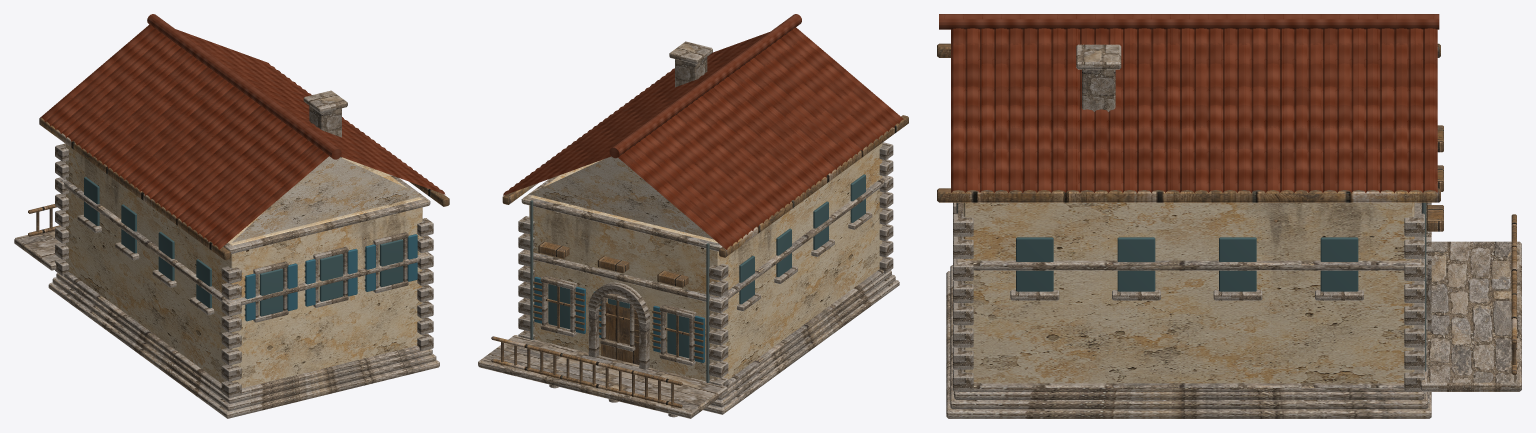
Rendered from building_house_c.glb.
The picture shows the model from 3 angles, left to right: view 1: azimuth 30°, elevation 25°; view 2: azimuth 150°, elevation 25°; view 3: azimuth 270°, elevation 25°; orthographic projection. The views are drawn at different scales.
Visible parts, largest first — view 1: stucco_volume, individual_barrel_roof_tiles, stepped_stone_plinth, window_recess, shutter, carved_double_door; view 2: individual_barrel_roof_tiles, stucco_volume, stepped_stone_plinth, carved_double_door, window_recess, shutter, rainwater_downpipe, shutter_louvre, mullion; view 3: individual_barrel_roof_tiles, stucco_volume, stepped_stone_plinth, carved_double_door, window_recess.
Boxes of the visible parts, <box> form: stucco_volume: <box>66,144,422,388</box>; individual_barrel_roof_tiles: <box>40,14,445,249</box>; stepped_stone_plinth: <box>14,90,439,418</box>; window_recess: <box>84,177,403,316</box>; shutter: <box>245,234,417,321</box>; carved_double_door: <box>28,117,449,260</box>; individual_barrel_roof_tiles: <box>503,14,903,249</box>; stucco_volume: <box>528,143,882,381</box>; stepped_stone_plinth: <box>478,41,899,418</box>; carved_double_door: <box>491,115,908,408</box>; window_recess: <box>548,174,865,358</box>; shutter: <box>534,276,704,362</box>; rainwater_downpipe: <box>530,200,709,382</box>; shutter_louvre: <box>533,281,703,359</box>; mullion: <box>545,286,689,357</box>; individual_barrel_roof_tiles: <box>939,14,1439,193</box>; stucco_volume: <box>963,202,1414,383</box>; stepped_stone_plinth: <box>946,44,1521,418</box>; carved_double_door: <box>937,43,1516,374</box>; window_recess: <box>957,203,1358,291</box>.
Size of the model in its own units: 9.42 by 9.81 by 15.55.
9 materials, 5 textured.
